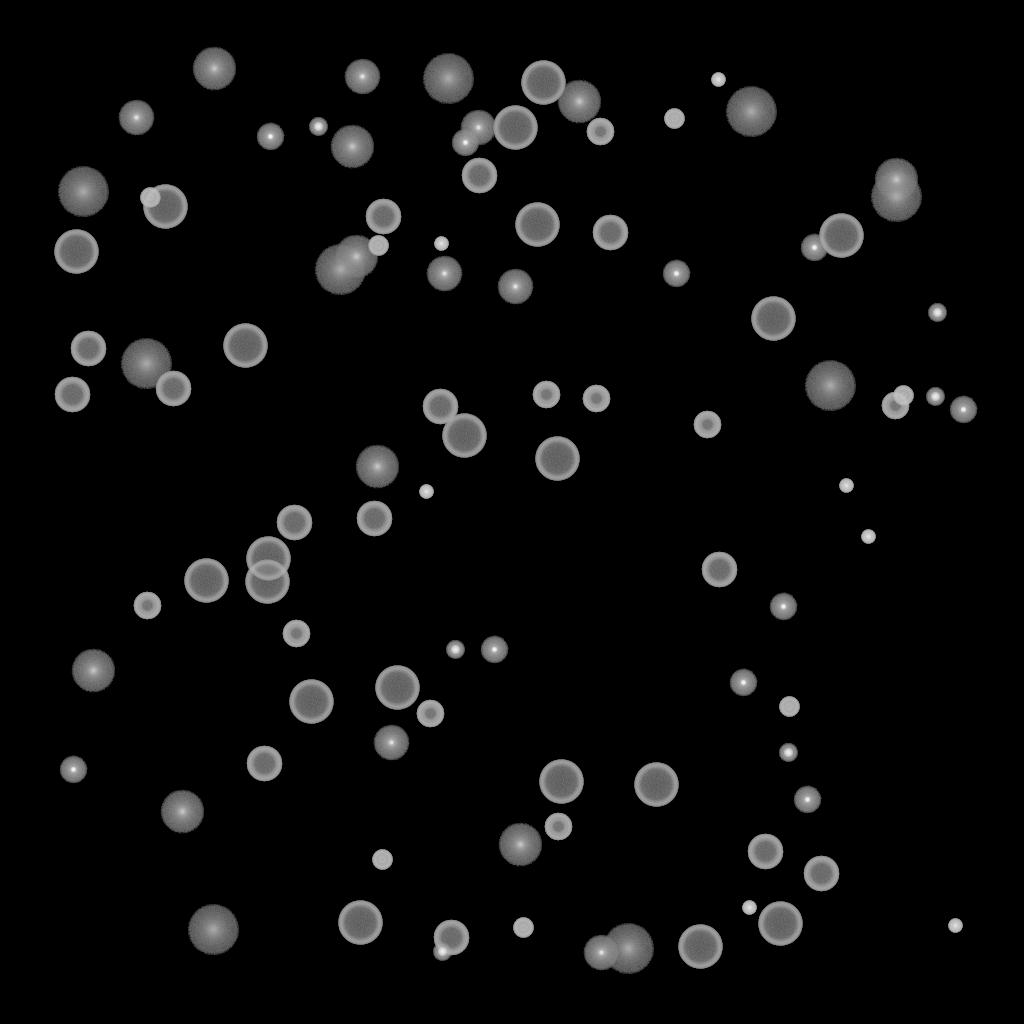depth:-10: (949, 396, 977, 424), (800, 234, 828, 262), (662, 260, 690, 288), (59, 756, 87, 784), (769, 593, 797, 621), (793, 786, 821, 814), (480, 636, 508, 664), (451, 129, 479, 157), (256, 123, 284, 151), (729, 669, 757, 697)
depth:-20: (309, 118, 327, 136), (433, 943, 451, 961), (928, 304, 946, 322), (446, 641, 464, 659), (779, 744, 797, 762), (926, 388, 944, 406)
depth:-30: (419, 485, 433, 499), (948, 919, 962, 933), (434, 237, 448, 251), (742, 901, 756, 915), (839, 479, 853, 493), (711, 73, 725, 87), (861, 530, 875, 544)
depth:-40: (893, 386, 913, 406), (664, 109, 684, 129), (372, 850, 392, 870), (368, 236, 388, 256), (513, 918, 533, 938), (140, 188, 160, 208), (779, 697, 799, 717)
depth:-50: (544, 813, 572, 841), (416, 700, 444, 728), (532, 381, 560, 409), (582, 385, 610, 413), (881, 392, 909, 420), (133, 592, 161, 620), (282, 620, 310, 648), (586, 118, 614, 146), (693, 411, 721, 439)
depth:-60: (747, 834, 783, 870), (365, 199, 401, 235), (246, 746, 282, 782), (54, 377, 90, 413), (461, 158, 497, 194), (592, 215, 628, 251), (155, 371, 191, 407), (433, 920, 469, 956), (276, 505, 312, 541), (422, 389, 458, 425), (356, 501, 392, 537), (803, 856, 839, 892), (701, 552, 737, 588), (70, 331, 106, 367)
depth:-70: (223, 324, 267, 368), (539, 760, 583, 804), (246, 537, 290, 581), (184, 559, 228, 603), (338, 901, 382, 945), (245, 560, 289, 604), (819, 214, 863, 258), (634, 763, 678, 807), (143, 185, 187, 229), (678, 925, 722, 969), (751, 297, 795, 341), (758, 902, 802, 946), (442, 414, 486, 458), (375, 666, 419, 710), (54, 230, 98, 274), (535, 437, 579, 481), (289, 680, 333, 724), (521, 61, 565, 105), (493, 106, 537, 150), (515, 203, 559, 247)
depth:0: (497, 269, 533, 305), (118, 100, 154, 136), (460, 110, 496, 146), (583, 935, 619, 971), (344, 59, 380, 95), (426, 256, 462, 292), (373, 725, 409, 761)
depth:10: (557, 80, 601, 124), (355, 445, 399, 489), (330, 125, 374, 169), (71, 649, 115, 693), (160, 790, 204, 834), (334, 235, 378, 279), (498, 823, 542, 867), (874, 158, 918, 202), (192, 47, 236, 91)
depth:20: (804, 361, 856, 411), (602, 924, 654, 974), (120, 339, 172, 389), (314, 245, 366, 295), (57, 167, 109, 217), (725, 87, 777, 137), (187, 905, 239, 955), (422, 54, 474, 104), (870, 172, 922, 222)
